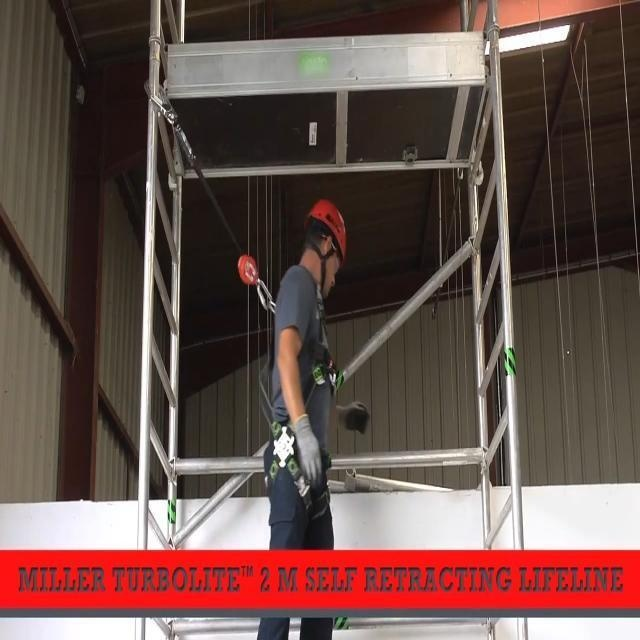Arnes_seguridad: (264, 264, 334, 527)
